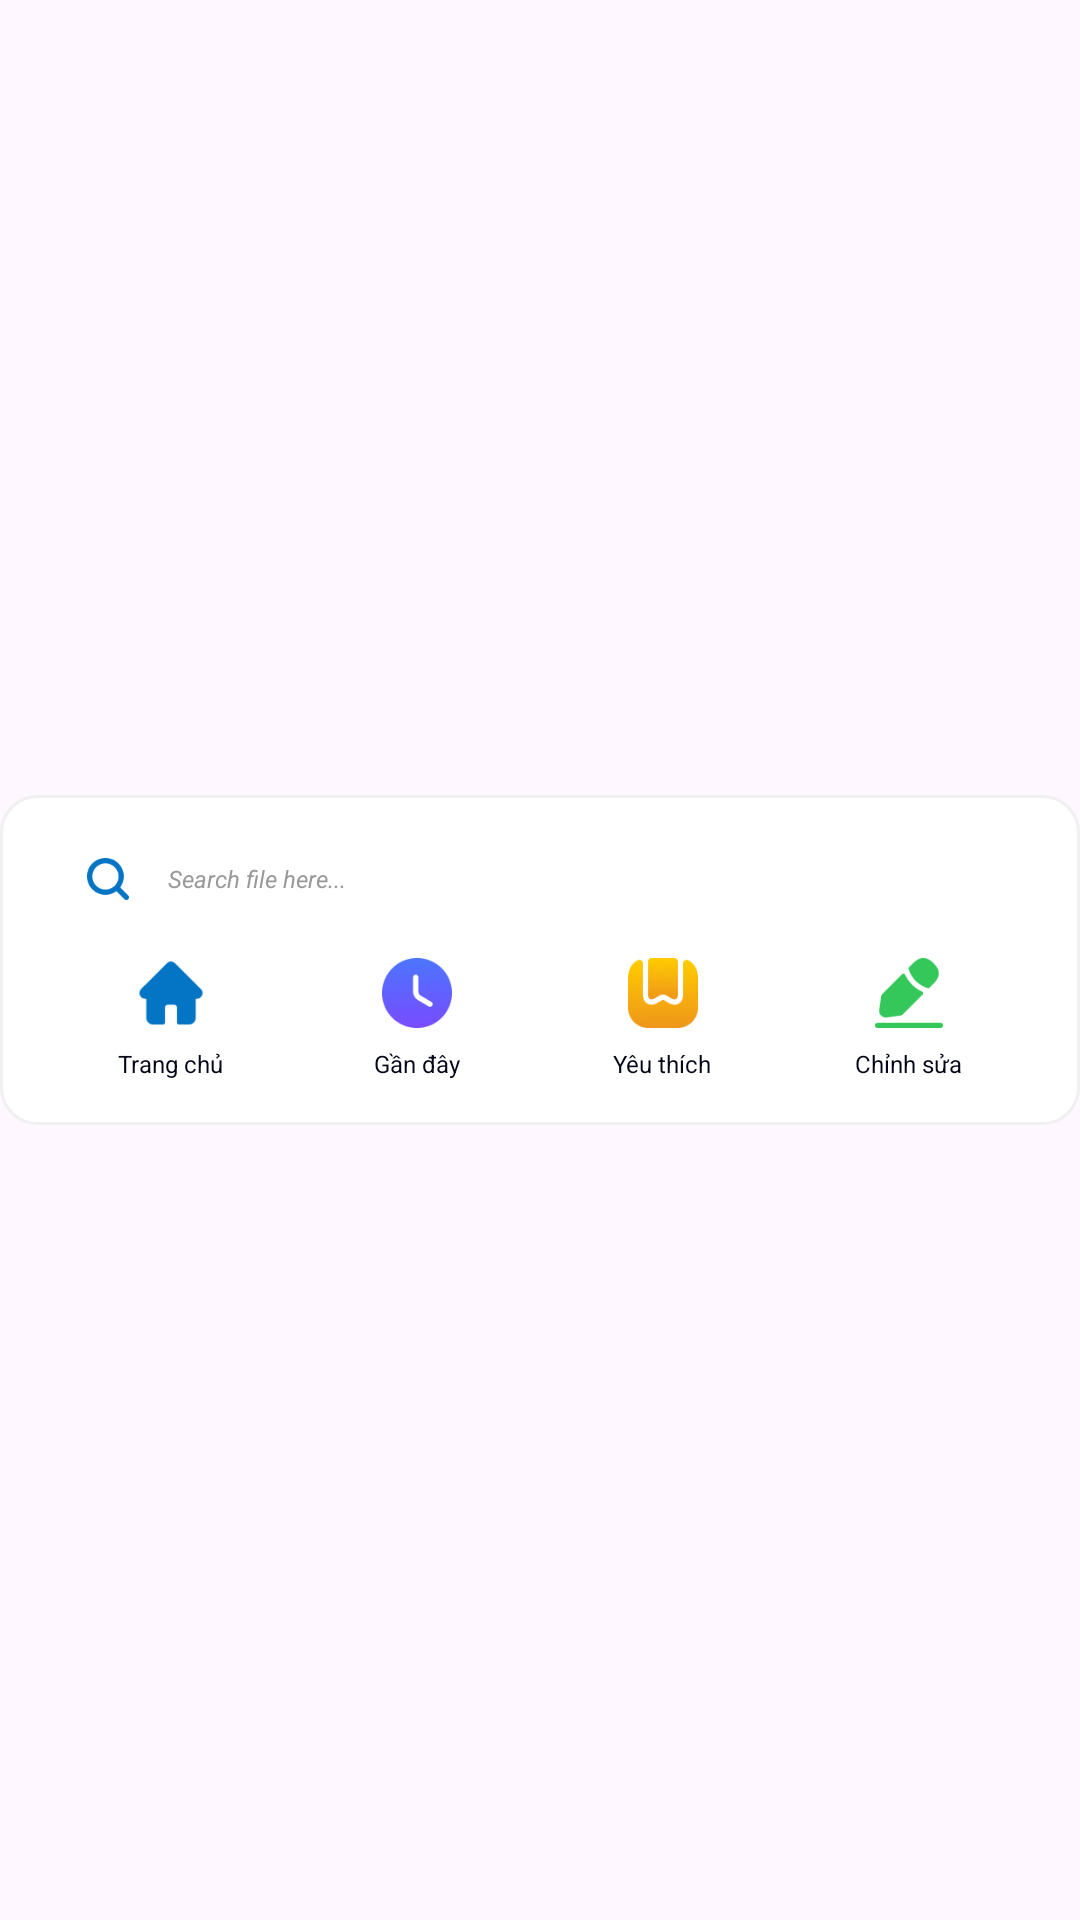

Named icons in this screenshot (1080 x 1920) and their centers, point (x, y):
widget bookmark: point (663, 993)
widget search: point (108, 879)
